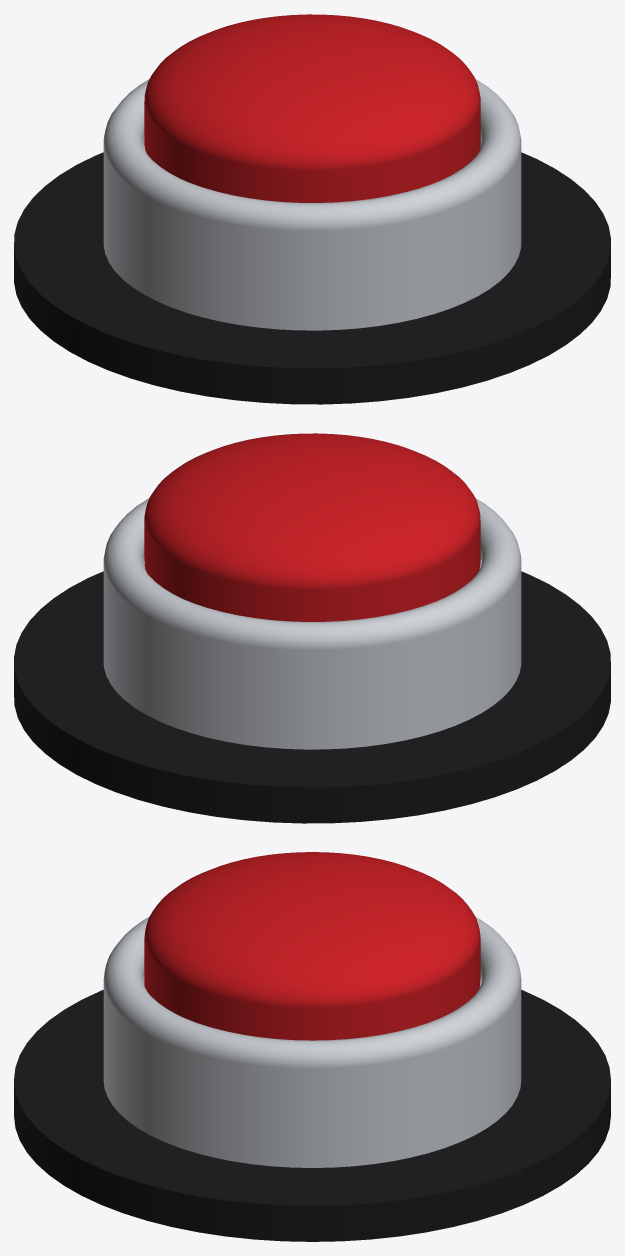
The model's file is RedButton.fbx.
3 views of the same model, one above another, from view 1: azimuth 30°, elevation 25°; view 2: azimuth 150°, elevation 25°; view 3: azimuth 270°, elevation 25° (orthographic).
Visible parts, largest first — view 1: ButtonCap; view 2: ButtonCap; view 3: ButtonCap.
Boxes of the visible parts, left/top/right/bottom form: ButtonCap: left=14, top=14, right=610, bottom=404; ButtonCap: left=14, top=433, right=610, bottom=823; ButtonCap: left=14, top=852, right=610, bottom=1241.
Bounding box in the file's own units: 10.8 × 4.51 × 10.8.
